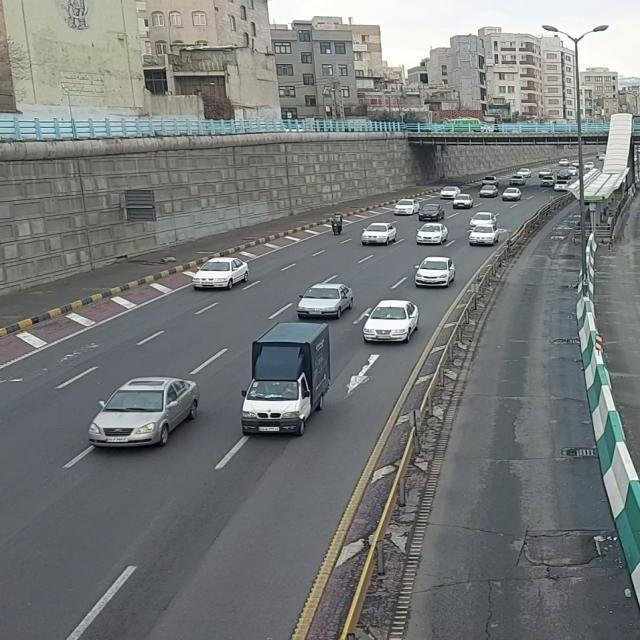Car: (86, 376, 201, 450), (362, 300, 423, 345), (190, 255, 252, 293), (295, 281, 356, 319), (413, 255, 459, 291), (360, 222, 400, 248), (415, 221, 451, 245), (468, 224, 502, 246), (416, 203, 448, 223), (392, 197, 422, 217)
Motorcycle: (330, 209, 346, 237)
Truck: (236, 318, 336, 438)
